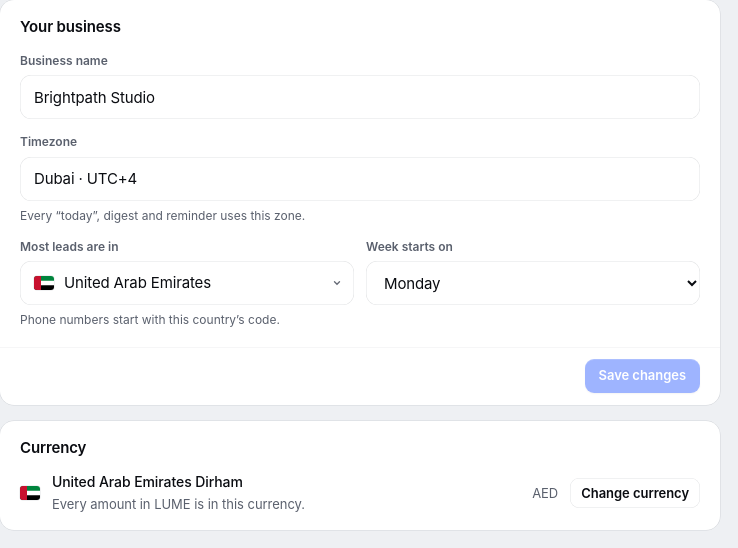
BusinessForm › saves only what changed, and says so quietly
This screenshot has width=738, height=548.
Replace the text in the field labelled "Business name" with "Brightpath Studio Co": (360, 97) [20,75,700,119]
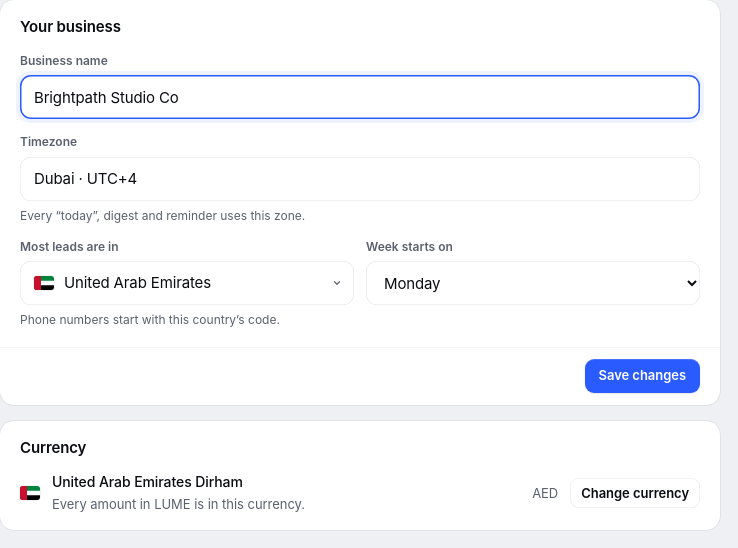
Select "Sunday" in the dropdown labelled "Week starts on": (533, 283) [366,261,700,305]
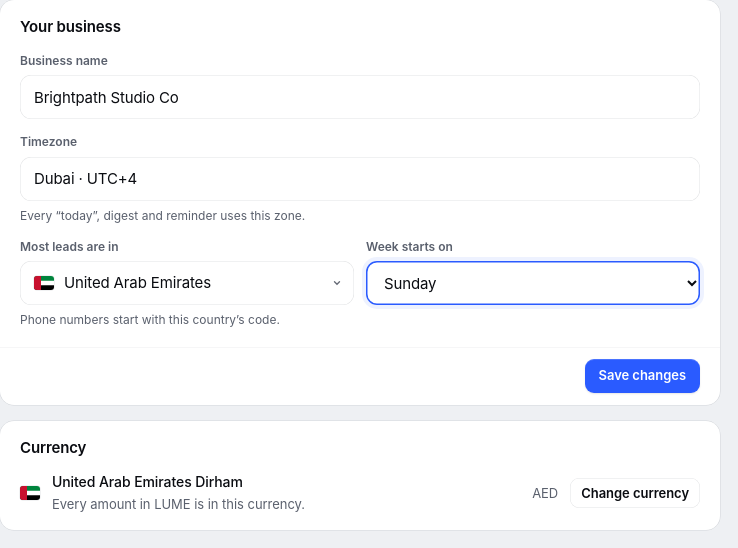
Click the button "Save changes": click(642, 376) [584,359,700,393]
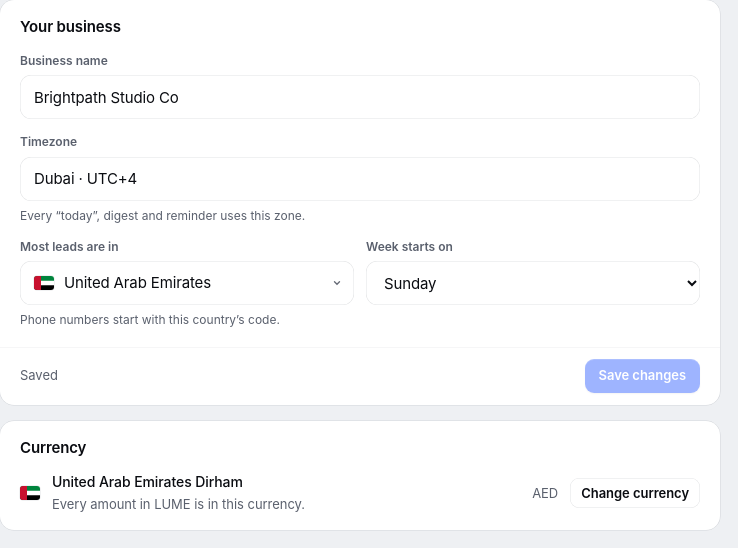
Expected: the message reads "Saved", [20,367,58,383]
